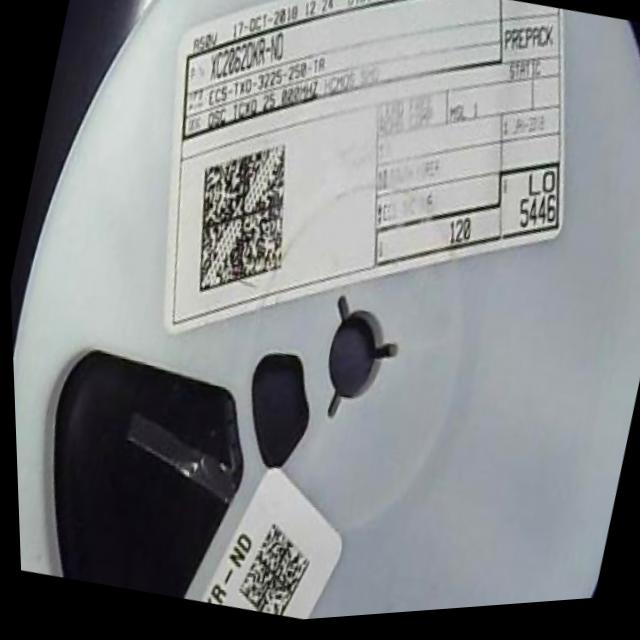datamatrix: (170, 124, 314, 318), (225, 513, 318, 628)
